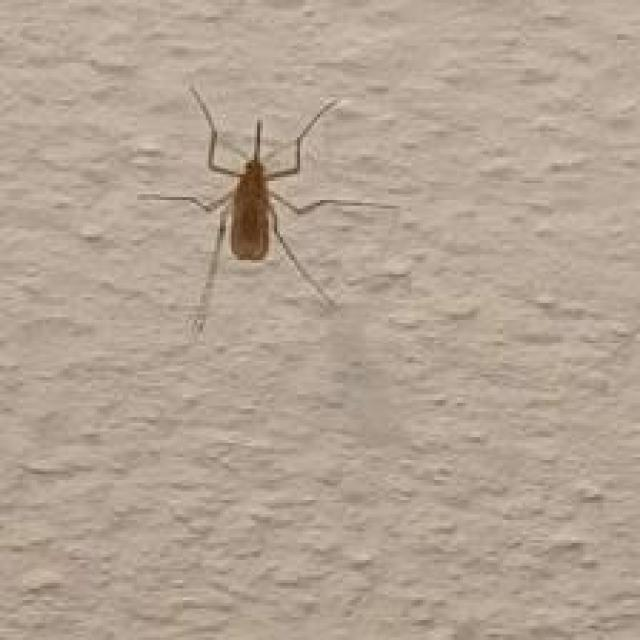Culex: (136, 83, 398, 340)
